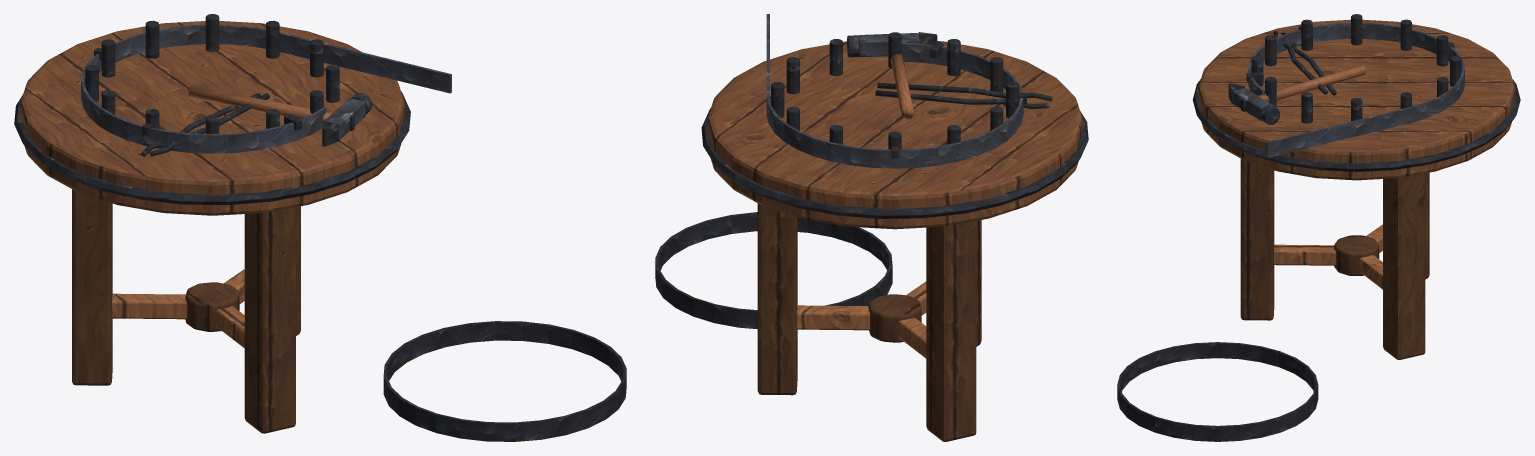
The model's file is hs_rim_jig.glb.
3 views of the same model, side by side, from view 1: azimuth 30°, elevation 25°; view 2: azimuth 150°, elevation 25°; view 3: azimuth 270°, elevation 25° (orthographic). The views are drawn at different scales.
Visible parts, largest first — view 1: model; view 2: model; view 3: model.
Part boxes in pixels (x1,y1,x2,y2): model: [14, 14, 626, 441]; model: [655, 14, 1088, 441]; model: [1117, 14, 1520, 441].
Bounding box in the file's own units: 1.4 × 0.86 × 1.22.
Materials: 5 (5 with a texture image).
